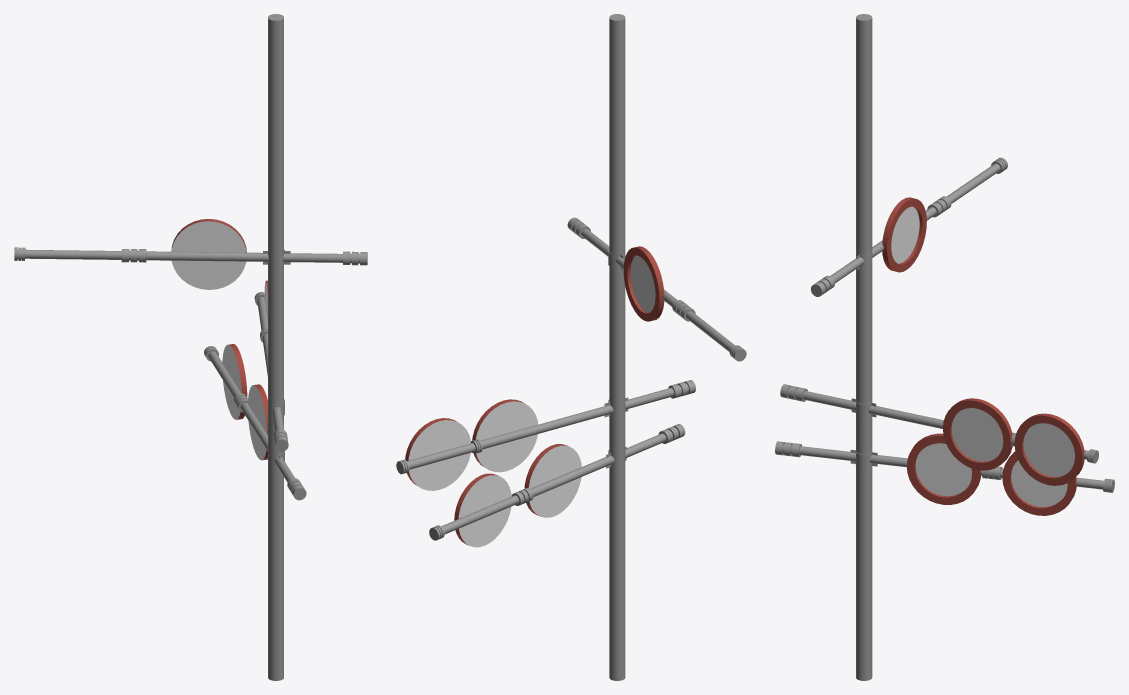
File: 所有UI.fbx
3 views of the same model, side by side, from view 1: azimuth 30°, elevation 25°; view 2: azimuth 150°, elevation 25°; view 3: azimuth 270°, elevation 25° (orthographic).
Parts seen in each view (by area): view 1: 主干, 上杆主技能, 上杆, 下杆, 下杆副技能, 中杆, 下杆主技能; view 2: 主干, 中杆副技能, 中杆主技能, 中杆, 下杆, 下杆副技能, 下杆主技能, 上杆主技能, 上杆; view 3: 主干, 中杆副技能, 中杆主技能, 下杆主技能, 上杆主技能, 下杆副技能, 下杆, 中杆, 上杆.
Boxes of the visible parts, bbox=[...] form: 主干: bbox=[268, 14, 283, 680]; 上杆主技能: bbox=[171, 219, 246, 289]; 上杆: bbox=[14, 247, 367, 265]; 下杆: bbox=[204, 346, 306, 500]; 下杆副技能: bbox=[222, 344, 247, 419]; 中杆: bbox=[254, 292, 288, 451]; 下杆主技能: bbox=[248, 384, 267, 460]; 主干: bbox=[609, 14, 625, 680]; 中杆副技能: bbox=[405, 418, 470, 490]; 中杆主技能: bbox=[472, 399, 538, 472]; 中杆: bbox=[396, 380, 695, 474]; 下杆: bbox=[429, 424, 685, 540]; 下杆副技能: bbox=[454, 473, 511, 547]; 下杆主技能: bbox=[524, 444, 581, 517]; 上杆主技能: bbox=[623, 246, 664, 321]; 上杆: bbox=[567, 217, 746, 361]; 主干: bbox=[856, 14, 872, 680]; 中杆副技能: bbox=[1014, 413, 1084, 485]; 中杆主技能: bbox=[943, 398, 1012, 470]; 下杆主技能: bbox=[906, 433, 980, 504]; 上杆主技能: bbox=[882, 197, 926, 272]; 下杆副技能: bbox=[1002, 451, 1076, 515]; 下杆: bbox=[775, 441, 1114, 492]; 中杆: bbox=[780, 384, 1098, 463]; 上杆: bbox=[810, 157, 1007, 296].
Bounding box in the file's own units: 409 × 855 × 399.
